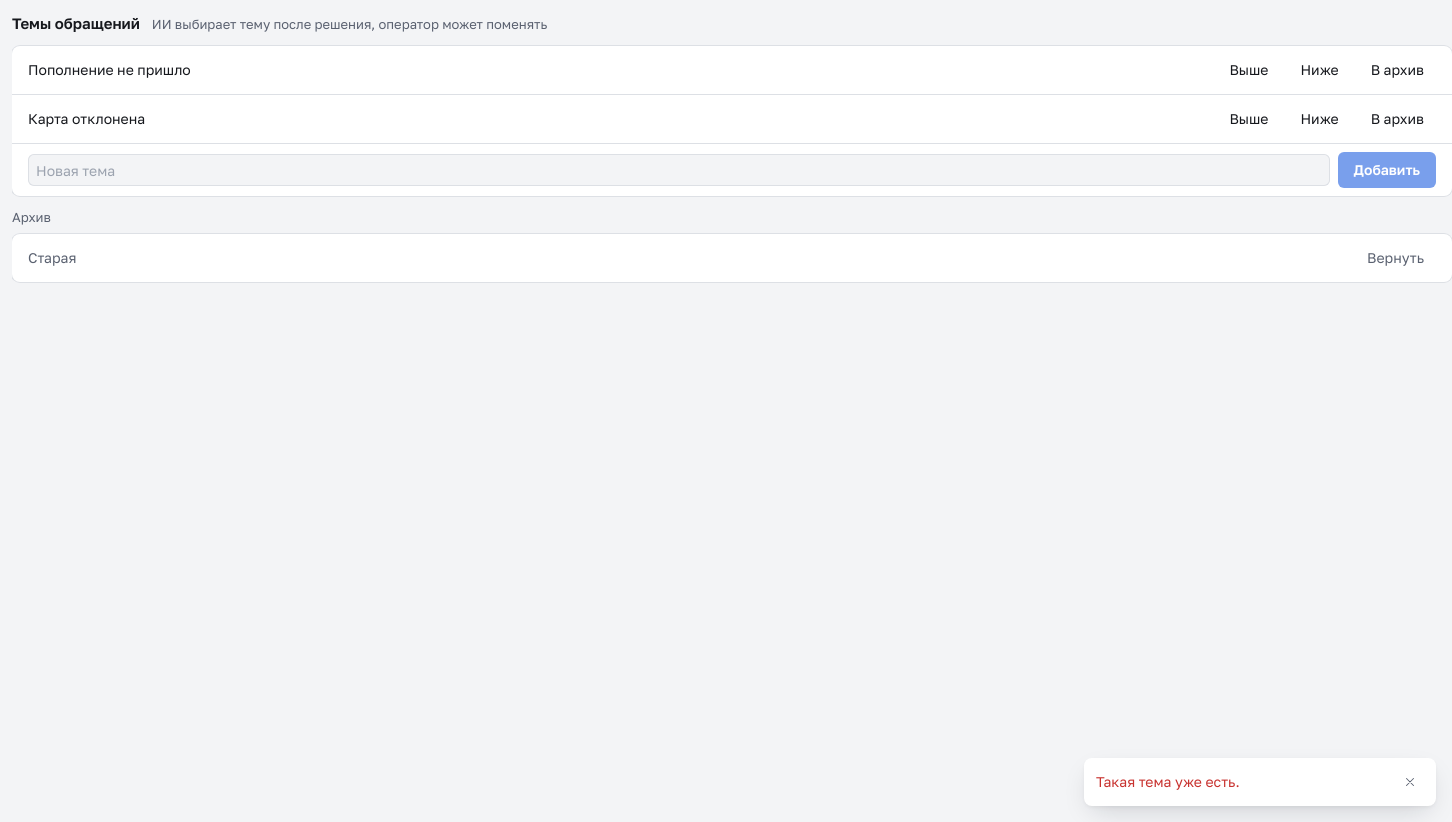
TopicsSection › toasts when the first PUT of a swap fails
Expected: the button "Пополнение не пришло" is shown, top-left (28, 60), bottom-right (1209, 80)
Click the 1st button "Ниже".
click(1320, 70)  # box top-left (1288, 54), bottom-right (1351, 86)
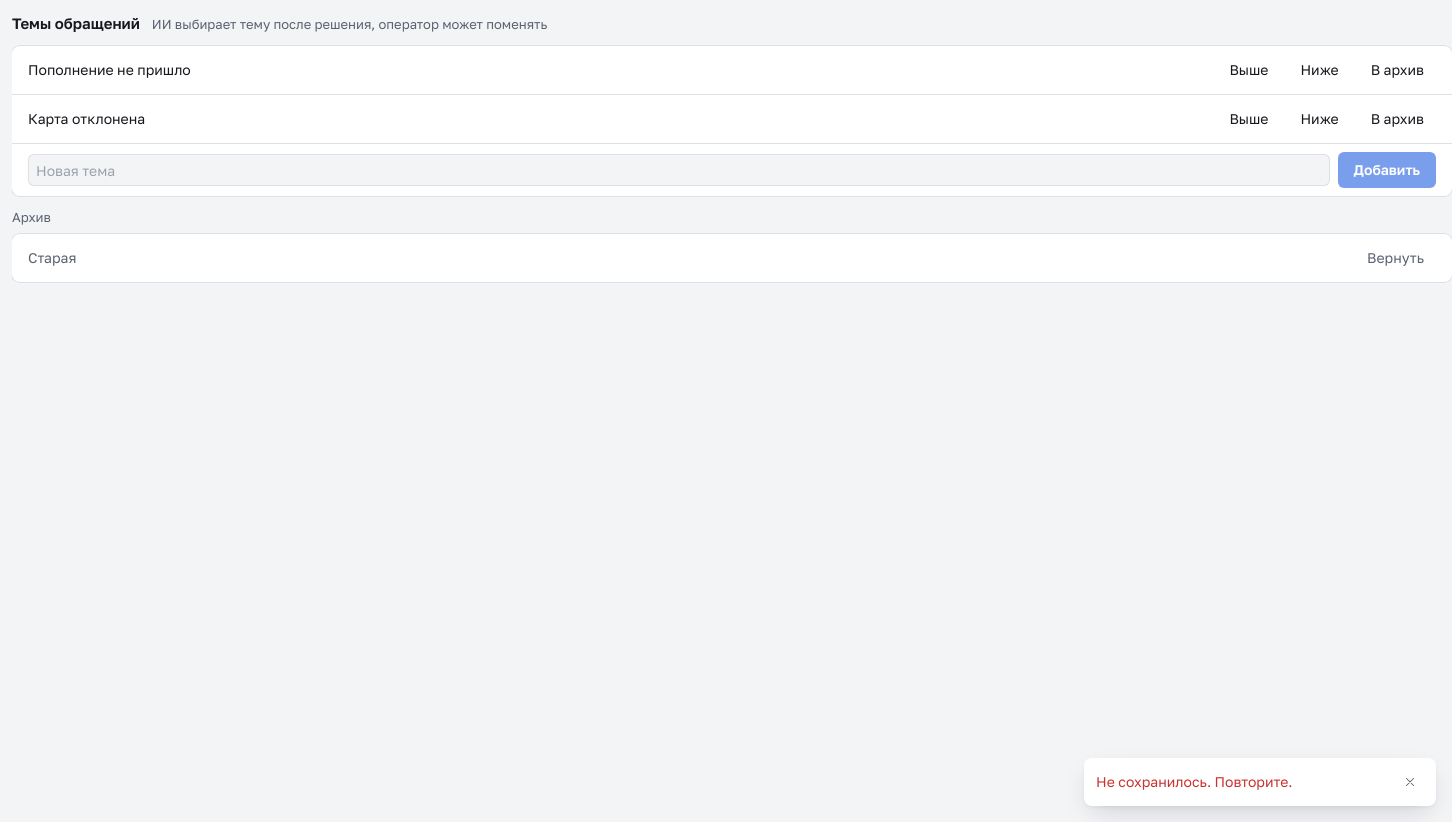
Now the text "Не сохранилось. Повторите." is shown, box top-left (1096, 773), bottom-right (1293, 790)
